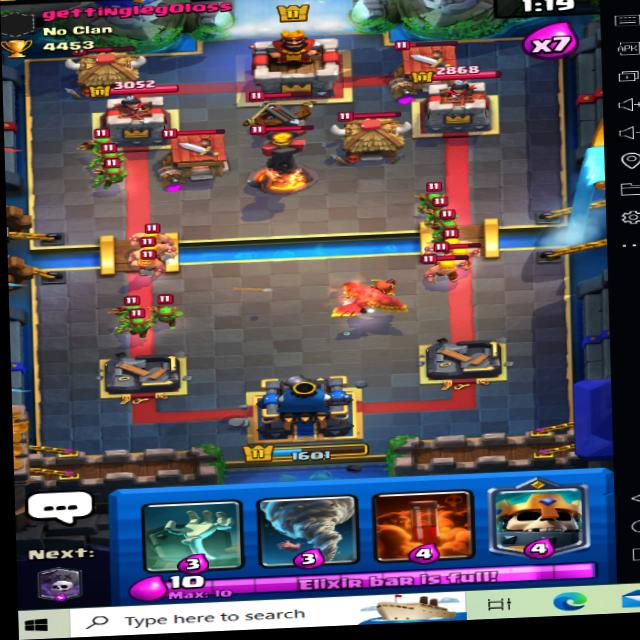barbarian: (125, 224, 186, 250), (422, 254, 474, 282), (126, 236, 183, 261), (128, 250, 176, 277), (433, 241, 489, 263), (422, 230, 468, 254)
barbarian-hut: (156, 123, 233, 179), (390, 36, 466, 92)
goblin-hut: (329, 106, 417, 168), (66, 41, 142, 94)
inferno-tower: (250, 120, 321, 191)
spear-goblin: (426, 209, 463, 241), (94, 158, 134, 187), (419, 181, 452, 214), (90, 138, 130, 164), (82, 129, 122, 154), (122, 310, 152, 340), (153, 293, 184, 322), (108, 294, 142, 318)
x-bow: (229, 82, 322, 144)
